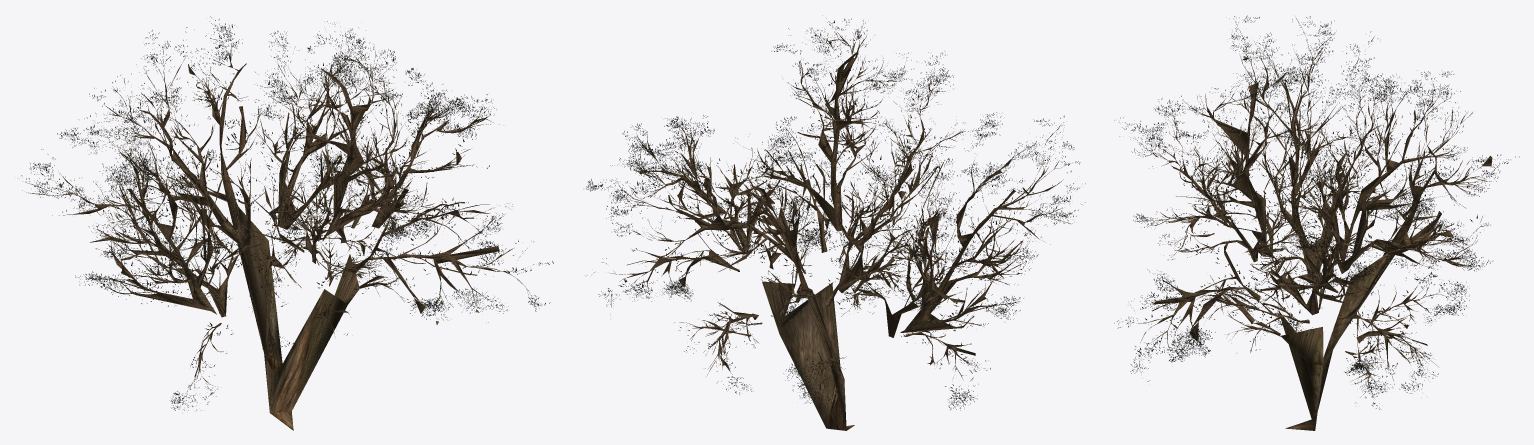
File: jacaranda_tree.glb
The picture shows the model from 3 angles, left to right: view 1: azimuth 30°, elevation 25°; view 2: azimuth 150°, elevation 25°; view 3: azimuth 270°, elevation 25°; orthographic projection. The views are drawn at different scales.
Parts seen in each view (by area): view 1: jacaranda_tree_LOD0; view 2: jacaranda_tree_LOD0; view 3: jacaranda_tree_LOD0.
Part boxes in pixels (x1,y1,x2,y2): jacaranda_tree_LOD0: (21,16,553,430); jacaranda_tree_LOD0: (586,15,1085,430); jacaranda_tree_LOD0: (1114,15,1519,430).
Size of the model in its own units: 24.01 by 19.27 by 18.63.
3 materials, 3 textured.
